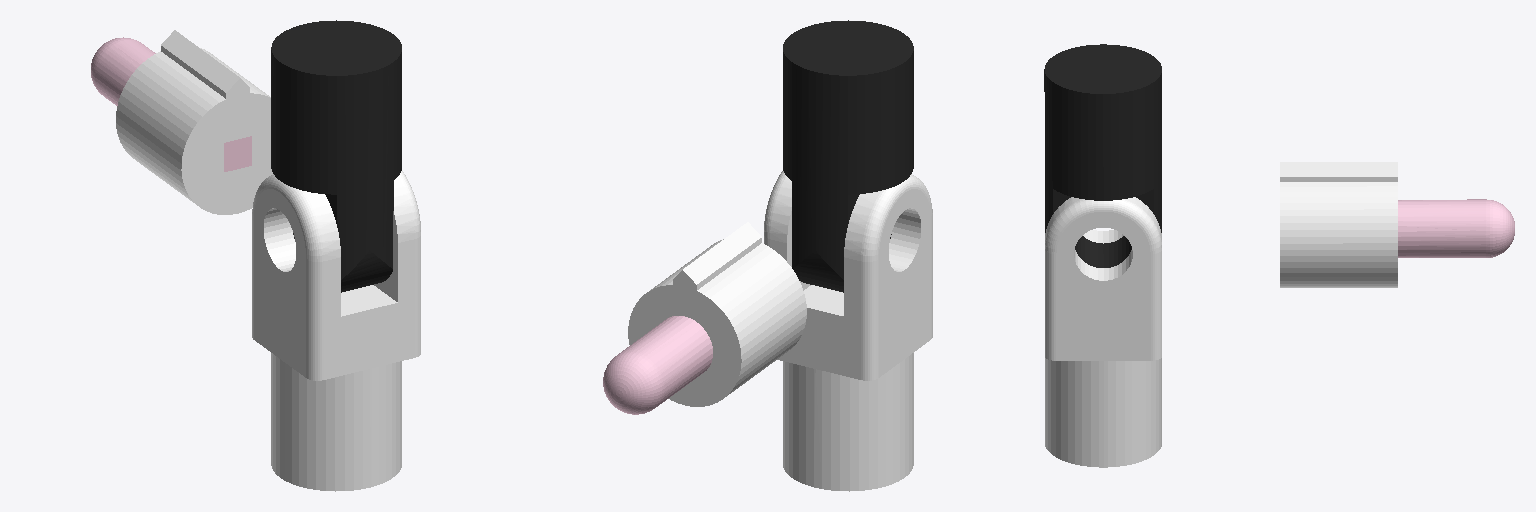
robot.urdf — sandevistan:
<?xml version='1.0' encoding='utf-8'?>
<robot name="sandevistan">
    <!-- add more codes -->

    <material name="Grey">
    <color rgba="0.2 0.2 0.2 1.0"/>
    </material>

    <material name="White">
    <color rgba="1.0 1.0 1.0 1.0"/>
    </material>

    <material name="Pink">
    <color rgba="1.0 0.85 0.92 1.0"/>
    </material>

    <link name="base_link">
    </link>

    <joint name="joint_base_0" type="fixed">
        <parent link="base_link"/>
        <child link="link_0"/>
        <origin xyz="0 0 0" rpy="0 0 0"/>
        <axis xyz="0 0 0"/>
    </joint>

    <link name="link_0">
        <visual>
            <origin xyz="0 0 0" rpy="0 0 0" />
            <geometry>
                <mesh filename="package://sandevistan_description/meshes/link_0.STL" />
            </geometry>
            <material name="Grey"/>
        </visual>
    </link>

    <joint name="joint_0_1" type="revolute">
        <parent link="link_0"/>
        <child link="link_1"/>
        <origin xyz="0 0 0.4" rpy="0 0 -1.57"/>
        <axis xyz="0 0 1"/>
        <limit lower="-3.14" upper="3.14" effort="0.5" velocity="0.5"/>
    </joint>

    <link name="link_1">
        <visual>
            <origin xyz="0 0 0" rpy="0 0 0" />
            <geometry>
                <mesh filename="package://sandevistan_description/meshes/link_1.STL" />
            </geometry>
            <material name="White"/>
        </visual>
    </link>

    <joint name="joint_1_2" type="revolute">
        <parent link="link_1"/>
        <child link="link_2"/>
        <origin xyz="0 0 0" rpy="-1.57 -1.57 0"/>
        <axis xyz="0 0 1"/>
        <limit lower="-3.14" upper="3.14" effort="0.5" velocity="0.5"/>
    </joint>

    <link name="link_2">
        <visual>
            <origin xyz="0 0 0" rpy="0 0 0" />
            <geometry>
                <mesh filename="package://sandevistan_description/meshes/link_2.STL" />
            </geometry>
            <material name="Grey"/>
        </visual>
    </link>

    <joint name="joint_2_3" type="revolute">
        <parent link="link_2"/>
        <child link="link_3"/>
        <origin xyz="0 -0.15 0" rpy="1.57 0 0"/>
        <axis xyz="0 0 1"/>
        <limit lower="-3.14" upper="3.14" effort="0.5" velocity="0.5"/>
    </joint>

    <link name="link_3">
        <visual>
            <origin xyz="0 0 0" rpy="0 0 0" />
            <geometry>
                <mesh filename="package://sandevistan_description/meshes/link_3.STL" />
            </geometry>
            <material name="White"/>
        </visual>
    </link>
    
    <joint name="joint_3_4" type="prismatic">
        <parent link="link_3"/>
        <child link="link_4"/>
        <origin xyz="0 0 0" rpy="0 0 0"/>
        <axis xyz="0 0 1"/>
        <limit lower="0" upper="0.1" effort="0.5" velocity="0.5"/>
    </joint>

    <link name="link_4">
        <visual>
            <origin xyz="0 0 0" rpy="0 0 0" />
            <geometry>
                <mesh filename="package://sandevistan_description/meshes/link_4.STL" />
            </geometry>
            <material name="Pink"/>
        </visual>
    </link>

    <joint name="joint_4_neff" type="fixed">
        <parent link="link_4"/>
        <child link="end_effector"/>
        <origin xyz="0 0 0.2" rpy="3.14 -1.57 0"/>
        <axis xyz="0 0 0"/>
    </joint>

    <link name="end_effector">
    </link>
</robot>

--- What the picture shows (computed from the rendered views, not written in the file) ---
The picture shows the robot from 3 angles, left to right: view 1: azimuth 30°, elevation 25°; view 2: azimuth 150°, elevation 25°; view 3: azimuth 270°, elevation 25°; orthographic projection.
Robot: sandevistan — 7 links, 6 joints (3 revolute, 1 prismatic, 2 fixed); root link base_link; default pose: all joints at 0.
Visible links, largest first — view 1: link_1, link_2, link_3, link_4; view 2: link_1, link_2, link_3, link_4; view 3: link_1, link_2, link_3, link_4.
Link boxes in pixels (x1,y1,x2,y2): link_1: (252,171,420,491); link_2: (271,20,401,292); link_3: (116,30,272,214); link_4: (91,37,251,171); link_1: (764,171,932,491); link_2: (783,20,913,292); link_3: (628,222,806,406); link_4: (603,316,712,414); link_1: (1045,197,1161,467); link_2: (1044,44,1161,267); link_3: (1280,162,1397,287); link_4: (1398,199,1514,257).
Size in the robot's own frame: 0.1003 by 0.4001 by 0.35 metres.
Meshes: 5 distinct files referenced, 4 mesh visuals loaded (4 binary STL); not drawn: 1 (file found but could not be loaded).
